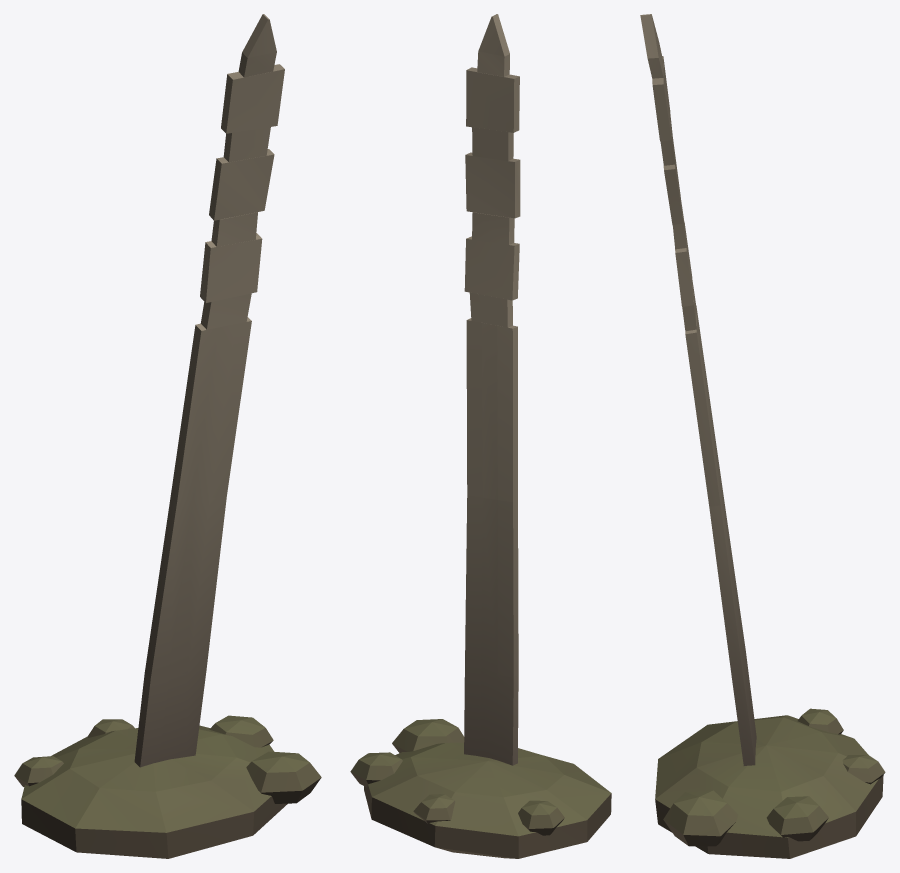
The model's file is sotoba.glb.
3 renders of one model, left to right at view 1: azimuth 30°, elevation 25°; view 2: azimuth 150°, elevation 25°; view 3: azimuth 270°, elevation 25°, orthographic. The views are drawn at different scales.
Parts seen in each view (by area): view 1: sotoba_mound; view 2: sotoba_mound; view 3: sotoba_mound.
Part boxes in pixels (x1=…): sotoba_mound: x1=14, y1=14, x2=321, y2=858; sotoba_mound: x1=350, y1=14, x2=611, y2=858; sotoba_mound: x1=640, y1=14, x2=885, y2=858.
Bounding box in the file's own units: 0.4525 × 1.5 × 0.3898.
